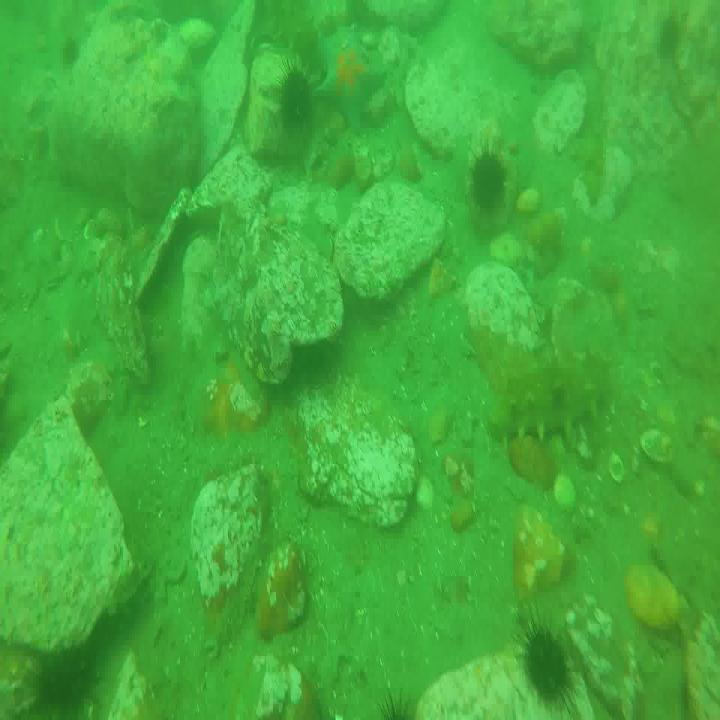echinus: (520, 616, 572, 705), (33, 643, 92, 720), (470, 138, 507, 210), (279, 69, 313, 140), (662, 13, 682, 64)
holothurian: (490, 354, 610, 443)
starfish: (316, 31, 388, 128)
